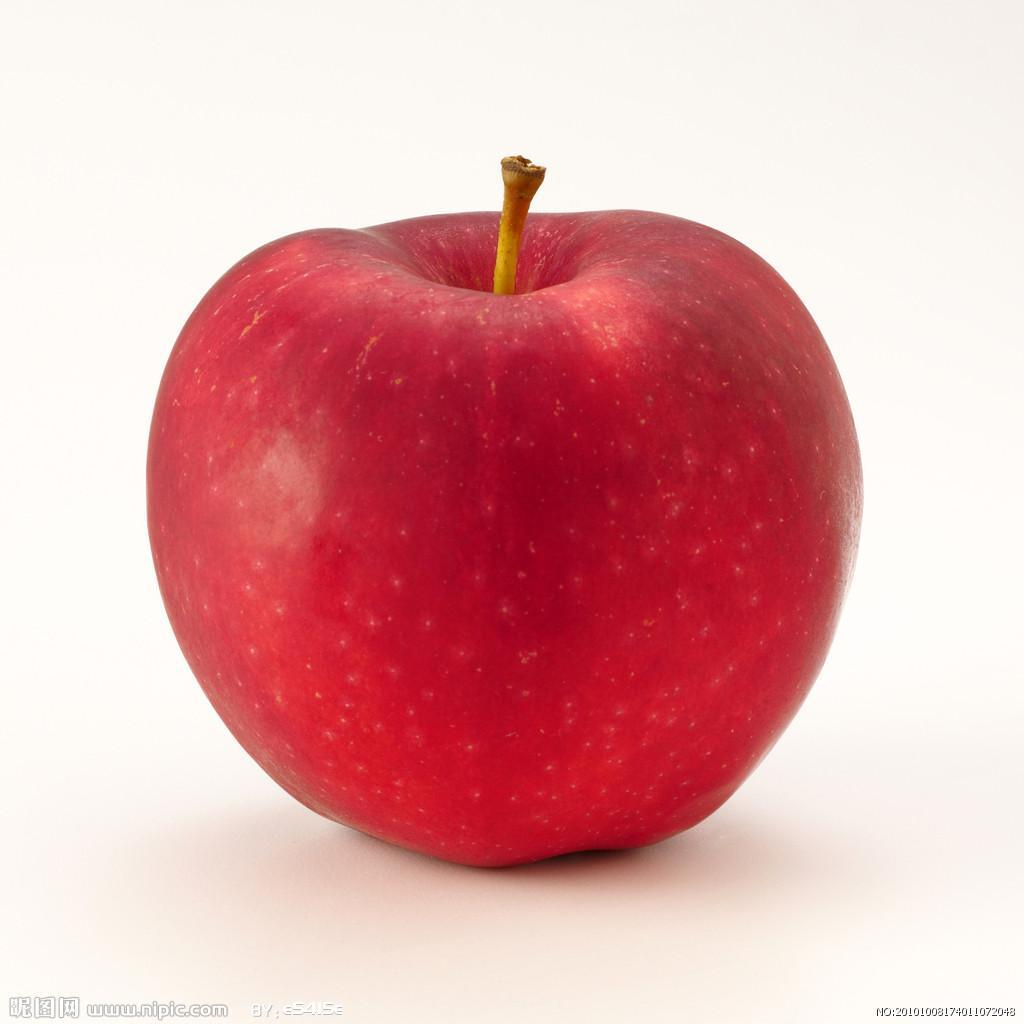apple: (142, 153, 863, 871)
